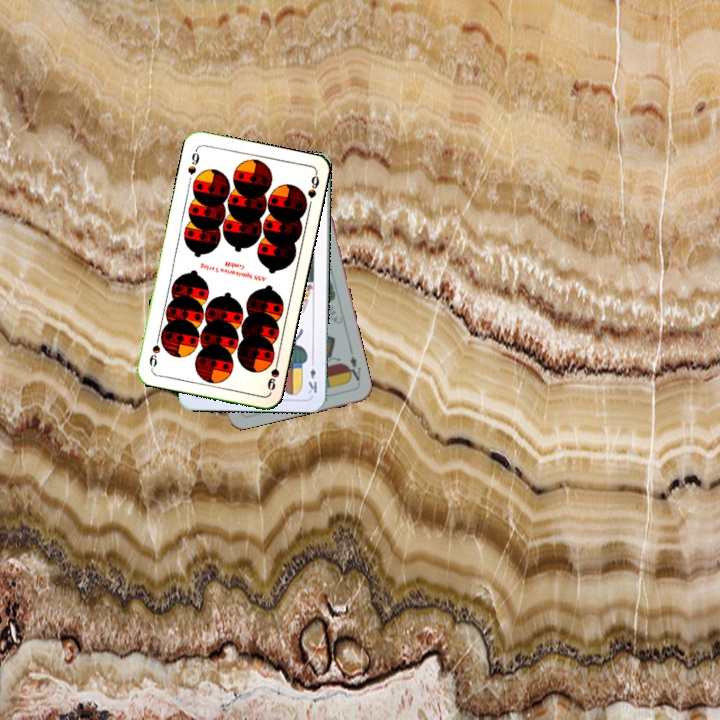EA: (343, 346, 364, 383)
EK: (304, 356, 319, 396)
S9: (263, 354, 282, 395), (184, 145, 202, 177)
